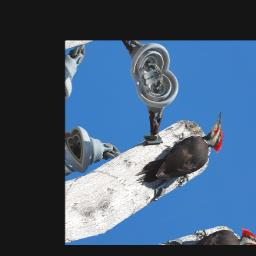Woodpecker: (126, 106, 240, 205)
